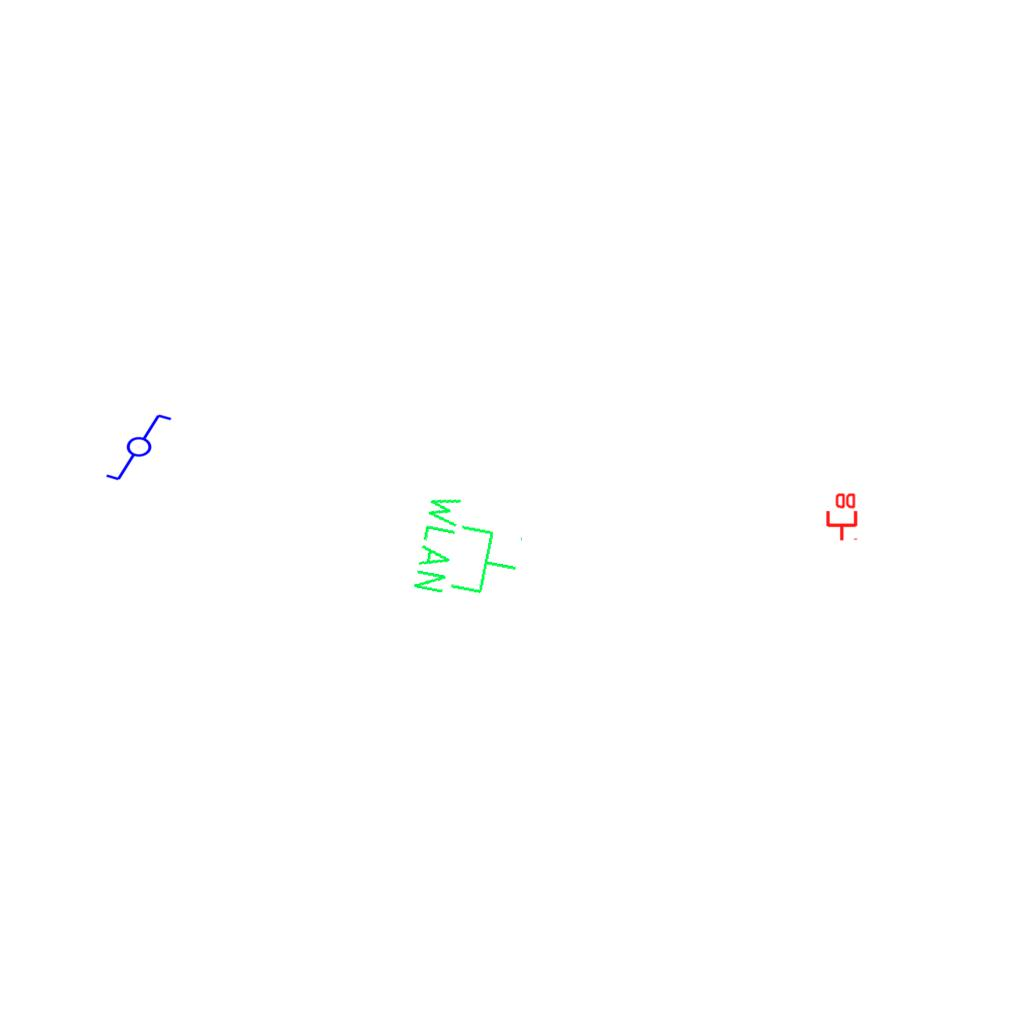Datenanschluss_zweifach: (824, 491, 858, 542)
WLAN: (408, 488, 532, 611)
Wechselschalter: (104, 412, 182, 484)
